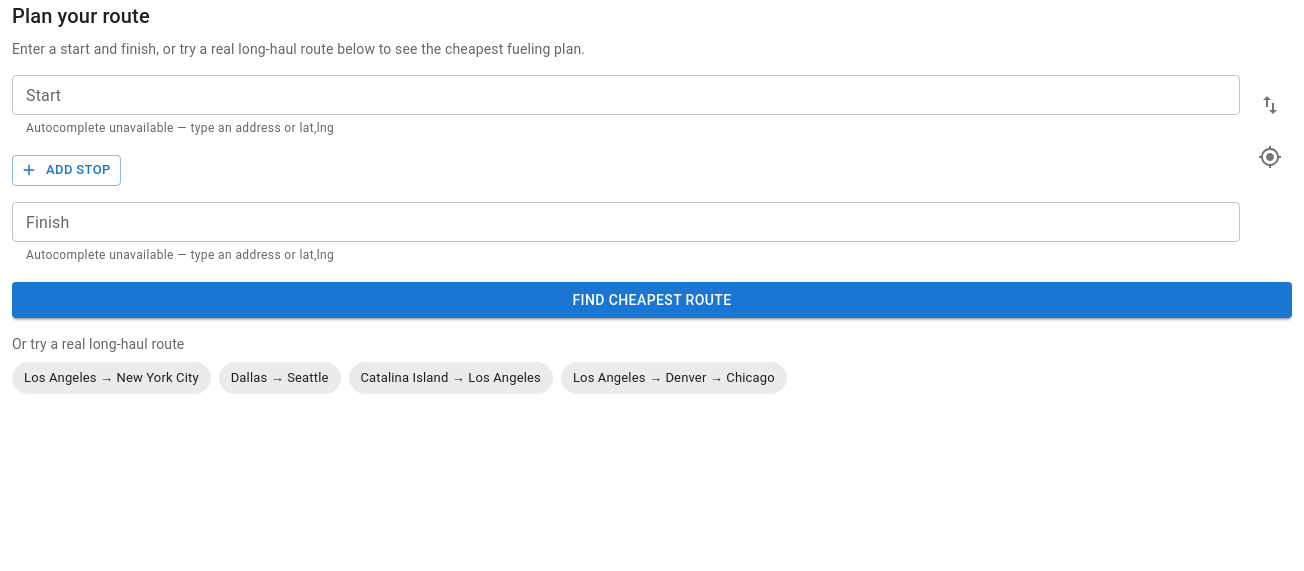
Test: an aria-live region announces a reorder referencing the stop letter
Click the button "Add stop" at x=66, y=170, box [12,155,121,186]
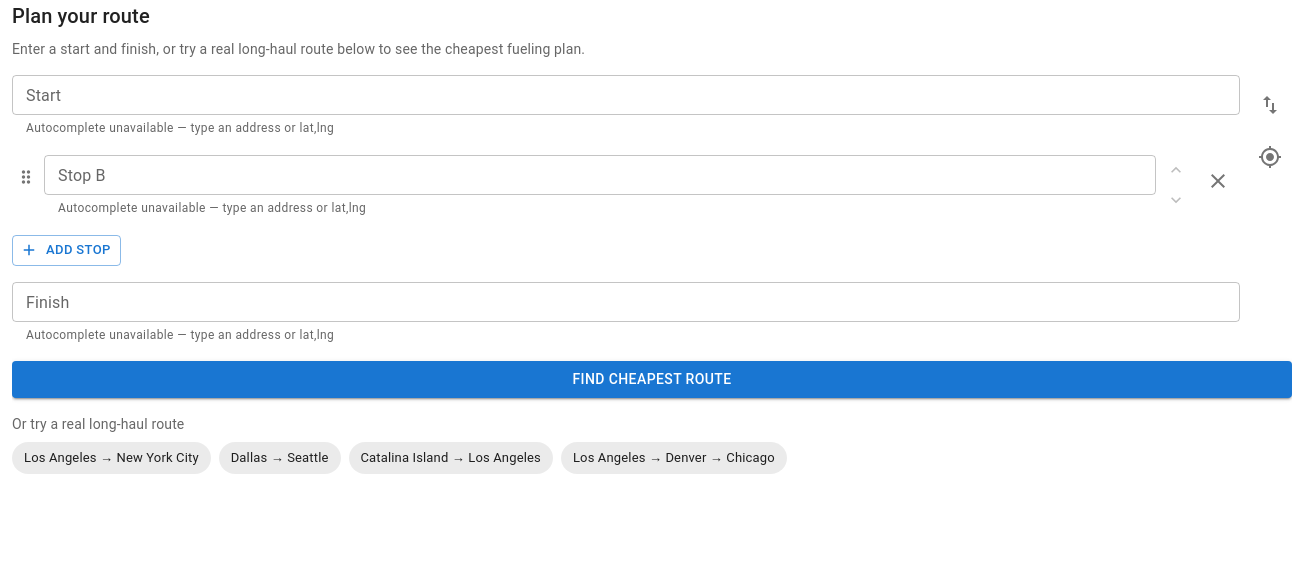
Click the button "Add stop" at x=66, y=250, box [12,235,121,266]
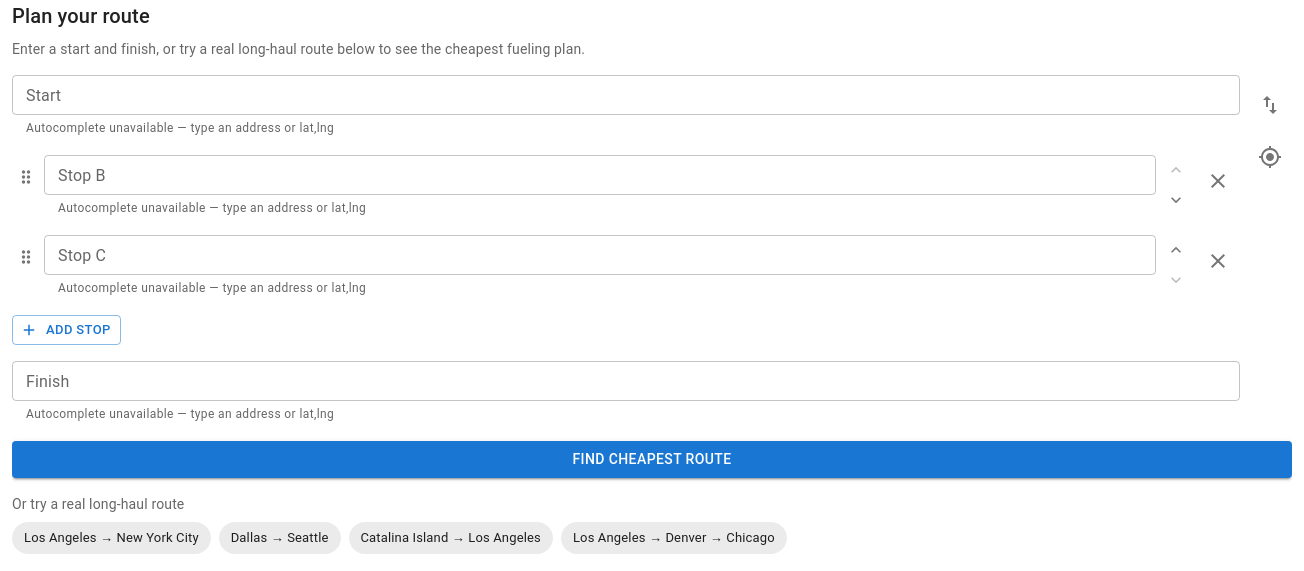
Click the button named "Move stop B down" at x=1176, y=200, box [1160,185,1192,215]
(page scrolled)
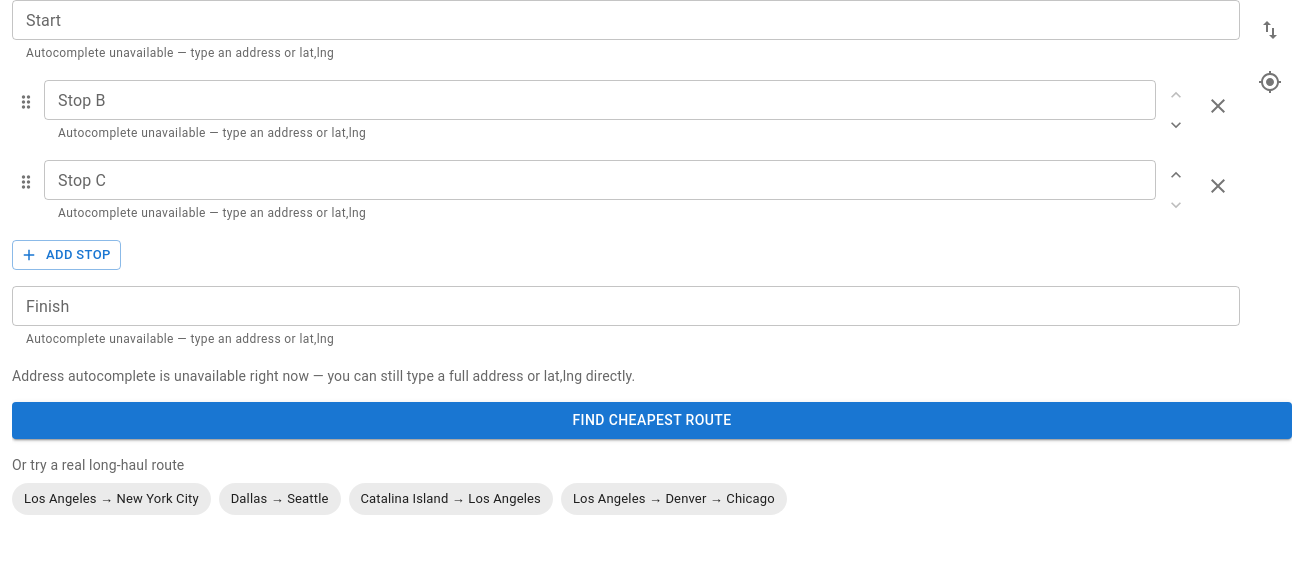
Expected: the message with test id "reorder-announcements" shows "Stop B moved to position 2", [12,2,244,21]
